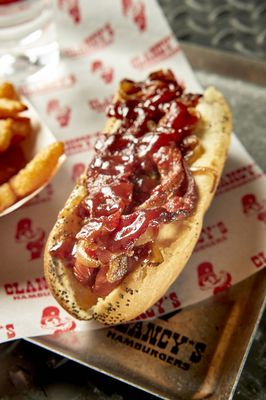curry: (0, 1, 266, 348)
sandwich: (44, 71, 232, 326)
